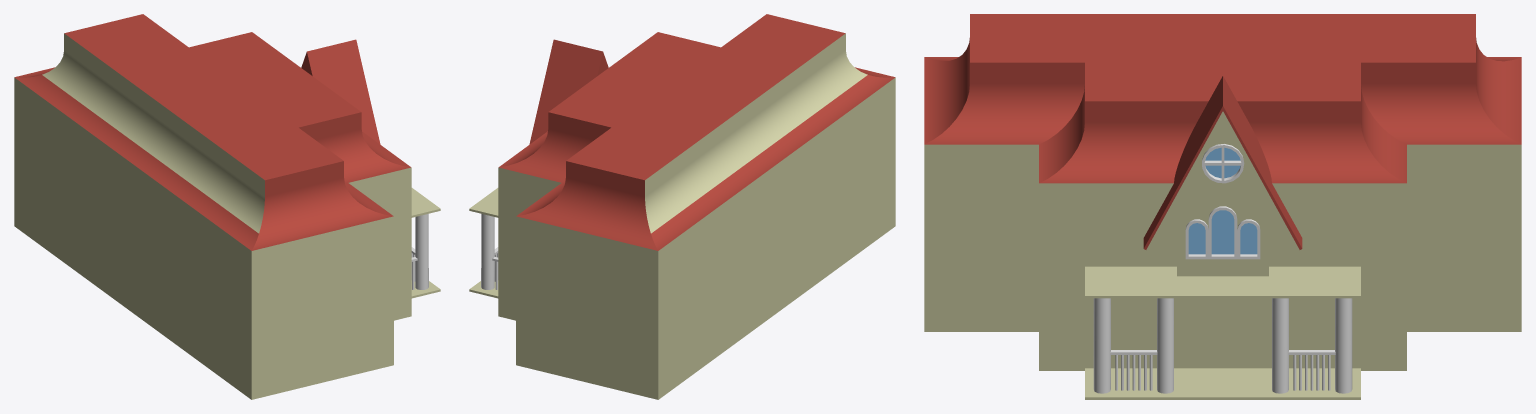
Rendered from mansion.fbx.
3 renders of one model, left to right at view 1: azimuth 30°, elevation 25°; view 2: azimuth 150°, elevation 25°; view 3: azimuth 270°, elevation 25°, orthographic. The views are drawn at different scales.
Visible parts, largest first — view 1: mansion:Solid1; view 2: mansion:Solid1; view 3: mansion:Solid1.
Boxes of the visible parts, x1=… form: mansion:Solid1: x1=14, y1=14, x2=440, y2=399; mansion:Solid1: x1=469, y1=14, x2=895, y2=399; mansion:Solid1: x1=924, y1=14, x2=1521, y2=399.
Bounding box in the file's own units: 16 × 13.24 × 26.
Materials: 1 (1 with a texture image).
